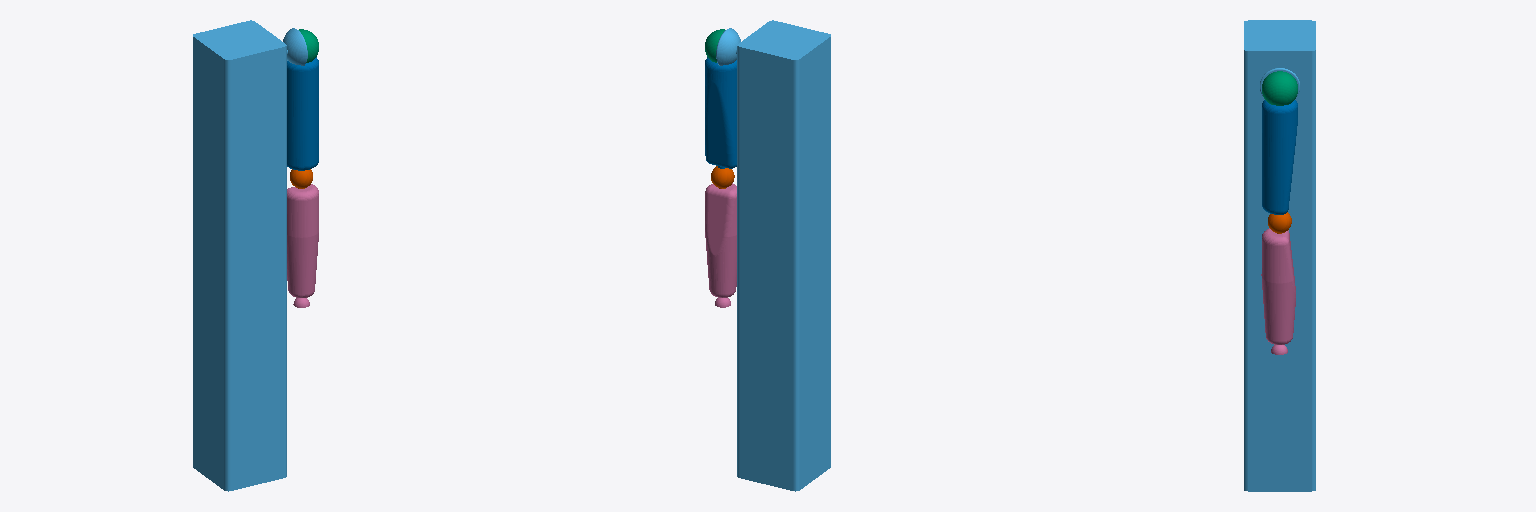
robot.urdf — 7DOF_ROBOT:
<robot name="7DOF_ROBOT">
    <!-- World -->
    <link name="world"/>

    <!-- World link Base -->
    <joint name="fixed" type="fixed">
        <origin xyz="0.0 0.0 0.0" rpy="0.0 0.0 0.0"/>
        <parent link="world"/>
        <child link="Base"/>
    </joint>

    <!-- Base  -->
    <link name="Base">
        <visual>
            <geometry>
                <mesh filename="../meshes/Base.STL" />
            </geometry>
        </visual>
        <collision>
            <geometry>
                <mesh filename="../meshes/Base.STL"/>
            </geometry>
        </collision>
    </link>

    <joint name="q1" type="revolute">
        <origin xyz="0.15 0.0 0.95" rpy="1.57 0.0 0.0"/>
        <parent link="Base"/>
        <child link="shoulder1"/>
        <axis xyz="0 0 1"/>
        <limit lower="-0.87" upper="3.14" effort="1000" velocity="0.0"/>
    </joint>

    <!-- Shoulde1 -->
    <link name="shoulder1">
    <origin xyz="0.0 0.0 0.0" rpy="0.0 0.0 0.0"/>
        <visual>
            <geometry>
                <mesh filename="../meshes/Shoulder1.STL"/>
            </geometry>
        </visual>
    </link>

    <!-- q2 -->
    <joint name="q2" type="revolute">
        <origin xyz="0.0 0.0 0.0" rpy="1.57 -1.57  0.0"/>
        <parent link="shoulder1"/>
        <child link="shoulder2"/>
        <axis xyz="0 0 1"/>
        <limit lower="0.0" upper="1.57" effort="1000" velocity="0.0"/>
    </joint>

     <!-- Shoulde2 -->
    <link name="shoulder2"/>

    <!-- q3 -->
    <joint name="q3" type="revolute">
        <origin xyz="0.0 0.0 0.0" rpy="-1.57 -1.57 0.0"/>
        <parent link="shoulder2"/>
        <child link="shoulder3"/>
        <axis xyz="0 0 1"/>
        <limit lower="0.0" upper="3.14" effort="1000" velocity="0.0"/>
    </joint>

    <!-- Shoulde3 -->
    <link name="shoulder3">
        <visual>
            <geometry>
                <mesh filename="../meshes/Shoulder3.STL"/>
            </geometry>
            <origin xyz="0.15 0.0 0.0" rpy="0.0 0.0 0.0"/>
        </visual>
    </link>

    <!-- q4 -->
    <joint name="q4" type="revolute">
        <origin xyz="0.3 0.0 0.0" rpy="-1.57 -1.57 0.0"/>
        <parent link="shoulder3"/>
        <child link="elbow"/>
        <axis xyz="0 0 1"/>
        <limit lower="0" upper="2.61" effort="1000" velocity="0.0"/>
    </joint>

    <!-- Elbow -->
    <link name="elbow">
        <visual>
            <geometry>
                <mesh filename="../meshes/Elbow.STL"/>
            </geometry>
        </visual>
    </link>

    <!-- q5 -->
    <joint name="q5" type="revolute">
        <origin xyz="0.0 0.35 0.0" rpy="-1.57 0.0 0.0"/>
        <parent link="elbow"/>
        <child link="wrist1"/>
        <axis xyz="0 0 1"/>
        <limit lower="-1.57" upper="1.57" effort="1000" velocity="0.0"/>
    </joint>

    <!-- Wrist1 -->
    <link name="wrist1">
        <visual>
            <geometry>
                <mesh filename="../meshes/Wrist1.STL"/>
            </geometry>
            <origin xyz="0.0 0.0 -0.2" rpy="0.0 0.0 0.0"/>
        </visual>
    </link>
    </robot>

--- Render facts (derived) ---
Views: 3 orthographic renders of the robot side by side, from view 1: azimuth 30°, elevation 25°; view 2: azimuth 150°, elevation 25°; view 3: azimuth 270°, elevation 25°.
Model 7DOF_ROBOT with 7 links and 6 joints (5 revolute, 1 fixed), rooted at world, posed every joint at zero.
Links seen in each view (by area): view 1: Base, wrist1, shoulder3; view 2: Base, wrist1, shoulder3; view 3: Base, wrist1, shoulder3, shoulder1.
Link boxes in pixels (left/top/right/bottom): Base: left=193, top=20, right=307, bottom=491; wrist1: left=287, top=184, right=318, bottom=307; shoulder3: left=287, top=57, right=318, bottom=170; Base: left=716, top=20, right=830, bottom=491; wrist1: left=705, top=183, right=736, bottom=307; shoulder3: left=705, top=57, right=736, bottom=168; Base: left=1244, top=20, right=1315, bottom=491; wrist1: left=1261, top=228, right=1295, bottom=354; shoulder3: left=1262, top=100, right=1297, bottom=214; shoulder1: left=1262, top=71, right=1297, bottom=105.
Bounding box of the posed robot: 0.2625 × 0.15 × 1 m (x, y, z).
Meshes: 5 distinct files referenced, 5 mesh visuals loaded (5 binary STL).
